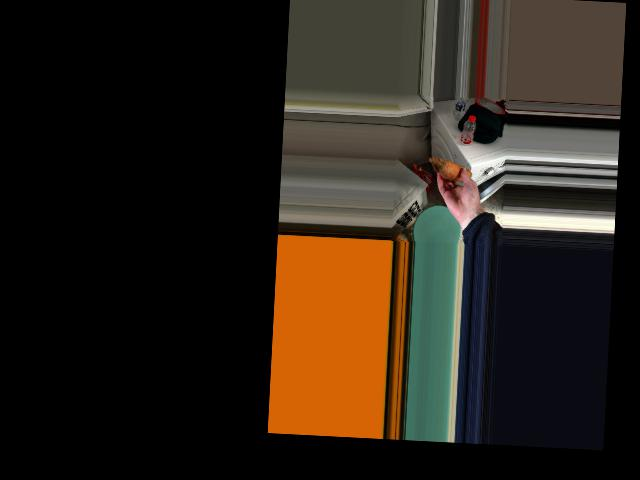sweet_potato: (439, 160, 467, 180)
